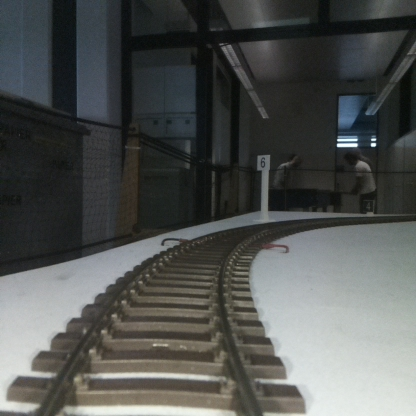white-info-6: (257, 154, 270, 217)
